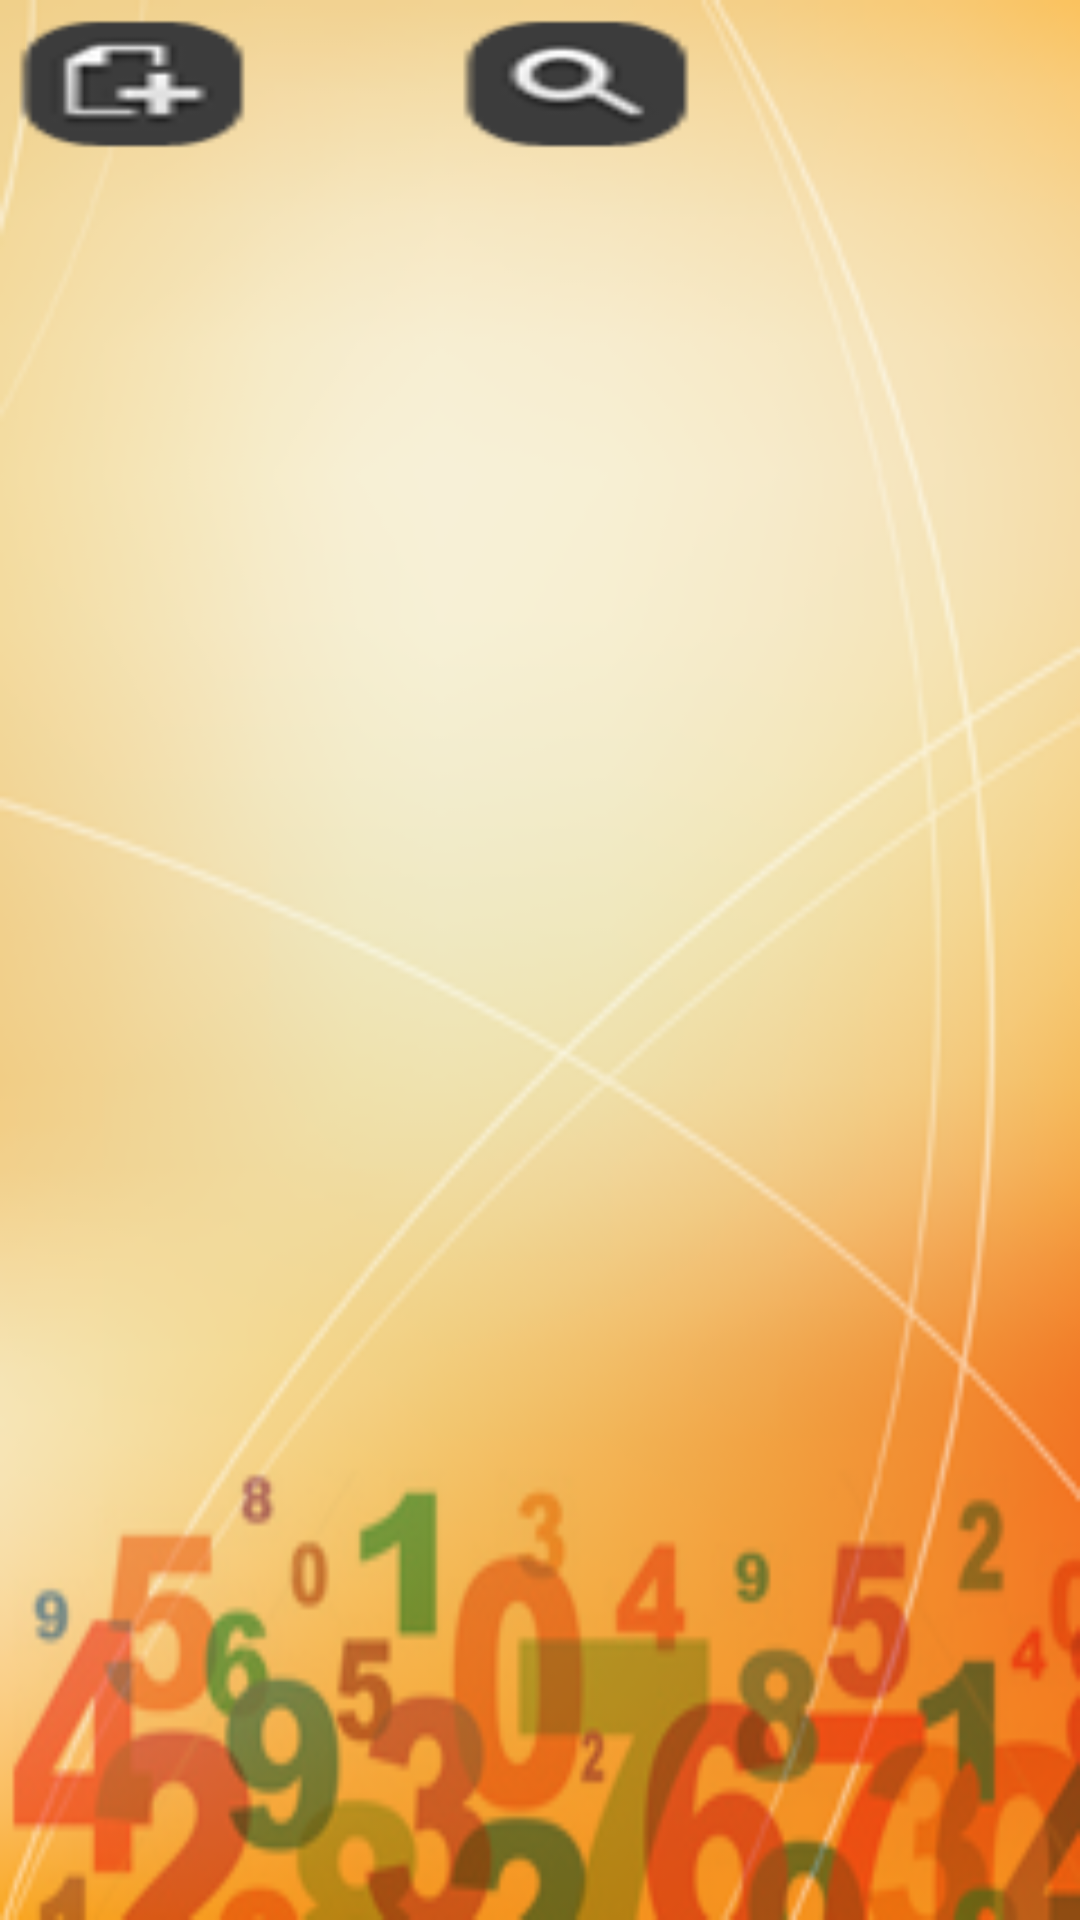

Point at icon controls on the screen. Image size 1080px x 1920px, points as (x,y).
add: (134,87)
search: (576,82)
